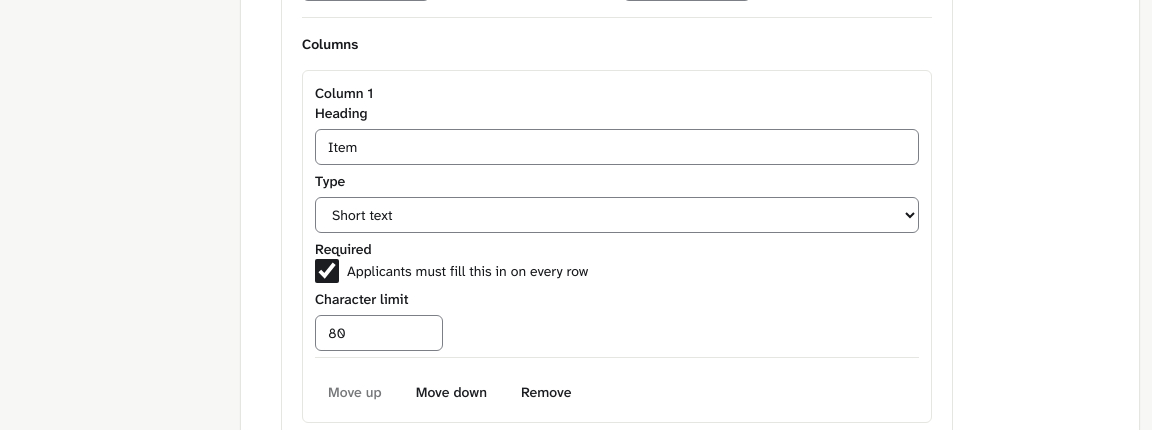
Test case: the columns of a table › keep their id and heading when the type changes, and keep a total only where it fits
(page scrolled)
Step 1. Select "Amount in pounds" in the dropdown labelled "Type" below "Column 1" → (617, 215), box [315, 197, 919, 233]
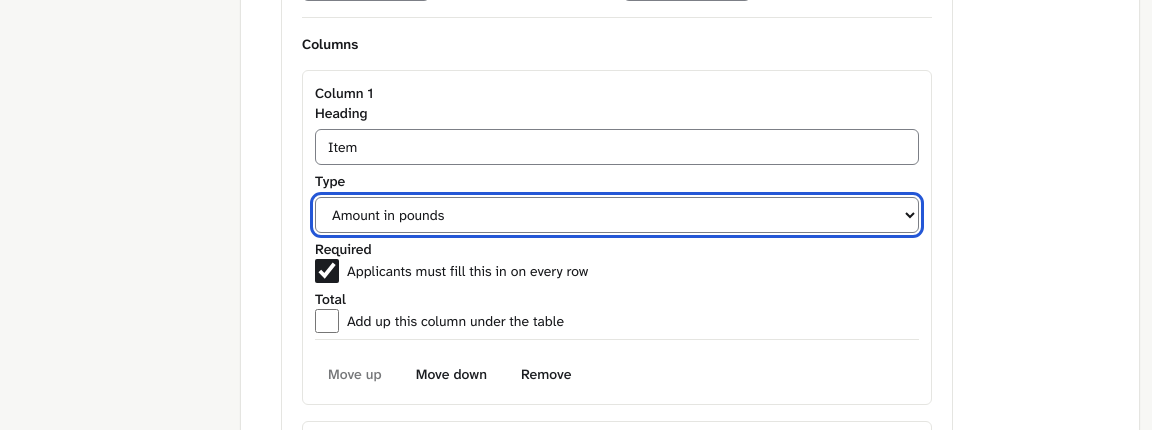
Step 2. Click the checkbox labelled "Add up this column under the table" → (327, 321), box [315, 309, 339, 333]
(page scrolled)
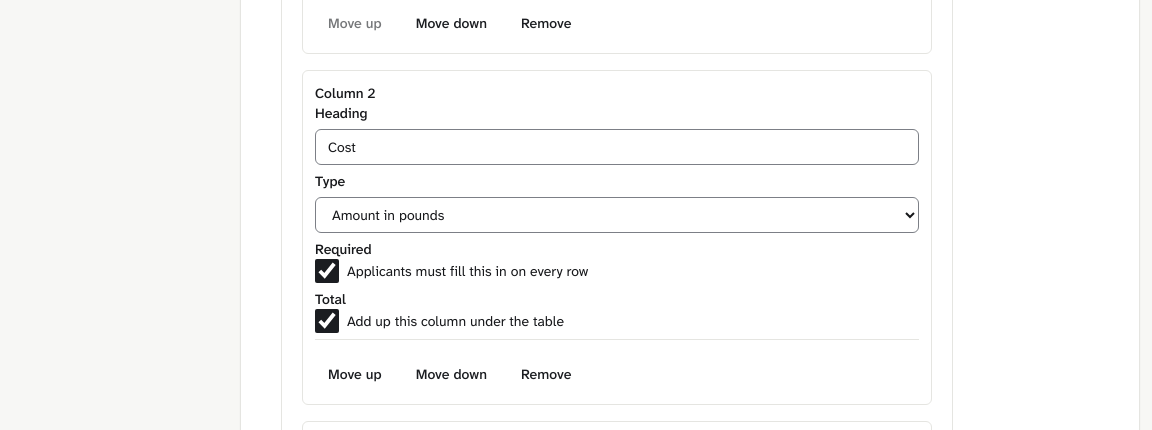
Step 3. Select "Number" in the dropdown labelled "Type" below "Column 2" → (617, 215), box [315, 197, 919, 233]
(page scrolled)
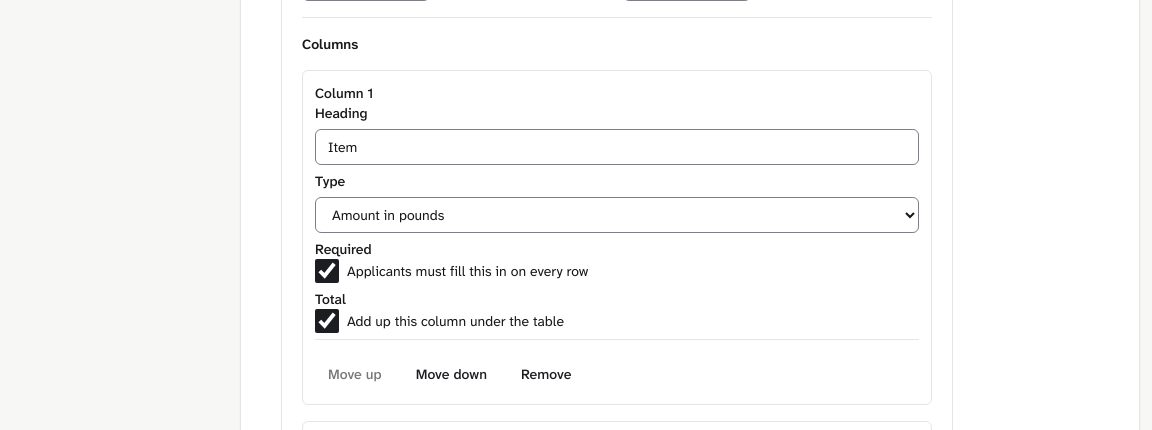
Step 4. Select "Short text" in the dropdown labelled "Type" below "Column 1" → (617, 215), box [315, 197, 919, 233]
(page scrolled)
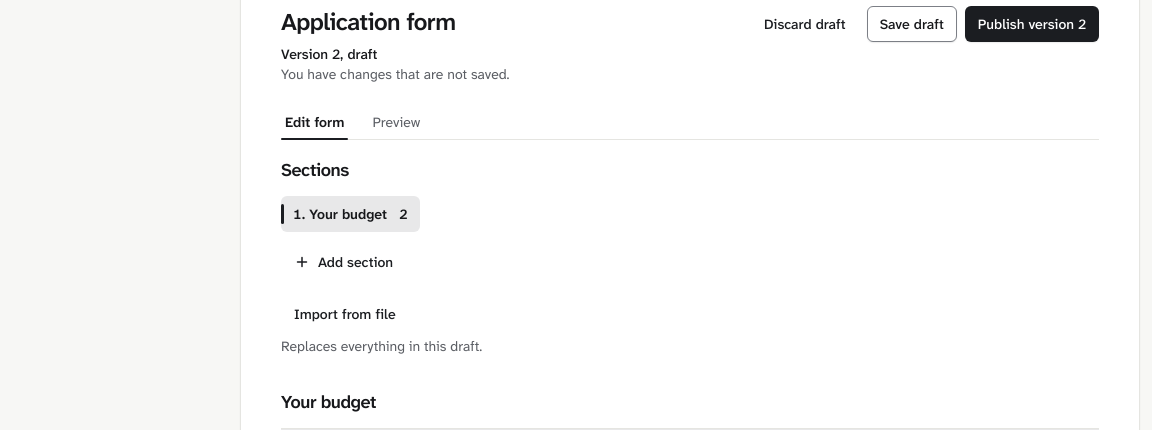
Step 5. Click the button "Save draft" → (912, 24), box [867, 6, 957, 42]
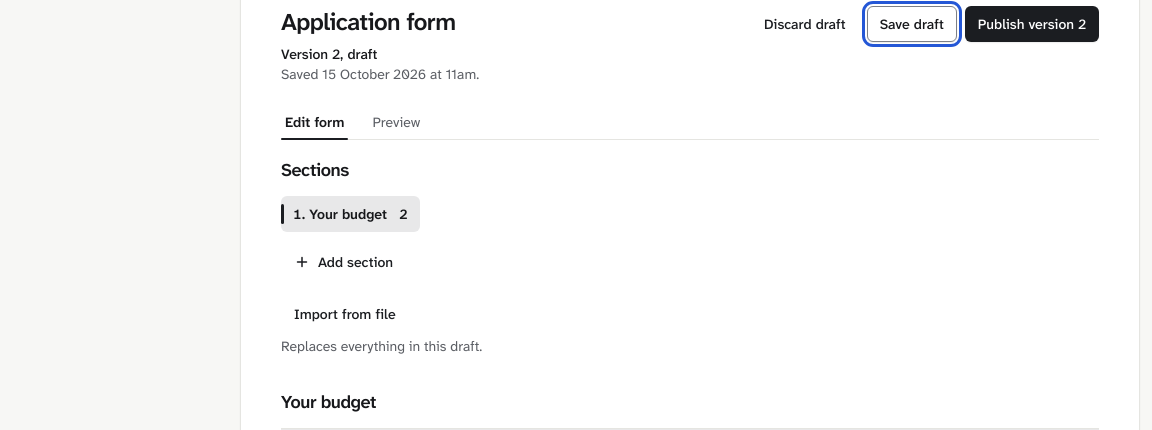
Check: the text "Saved 15 October 2026 at 11am." is shown, box [281, 65, 479, 83]
